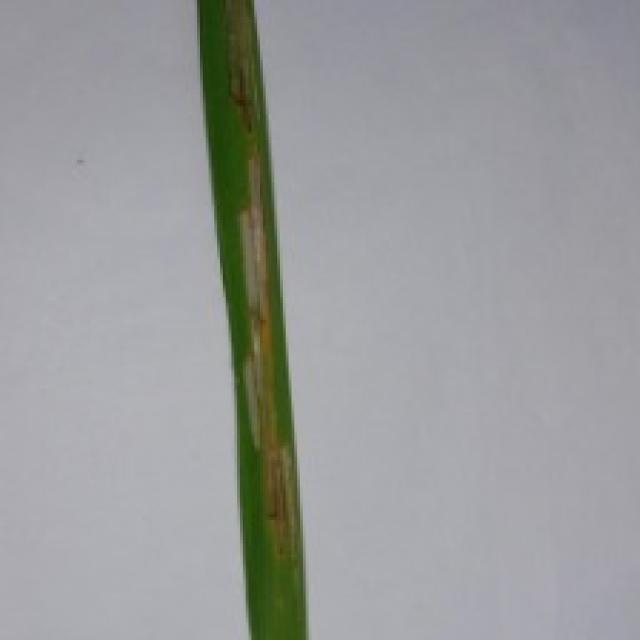Bacterial_Blight: (219, 145, 299, 530), (205, 0, 266, 131)
